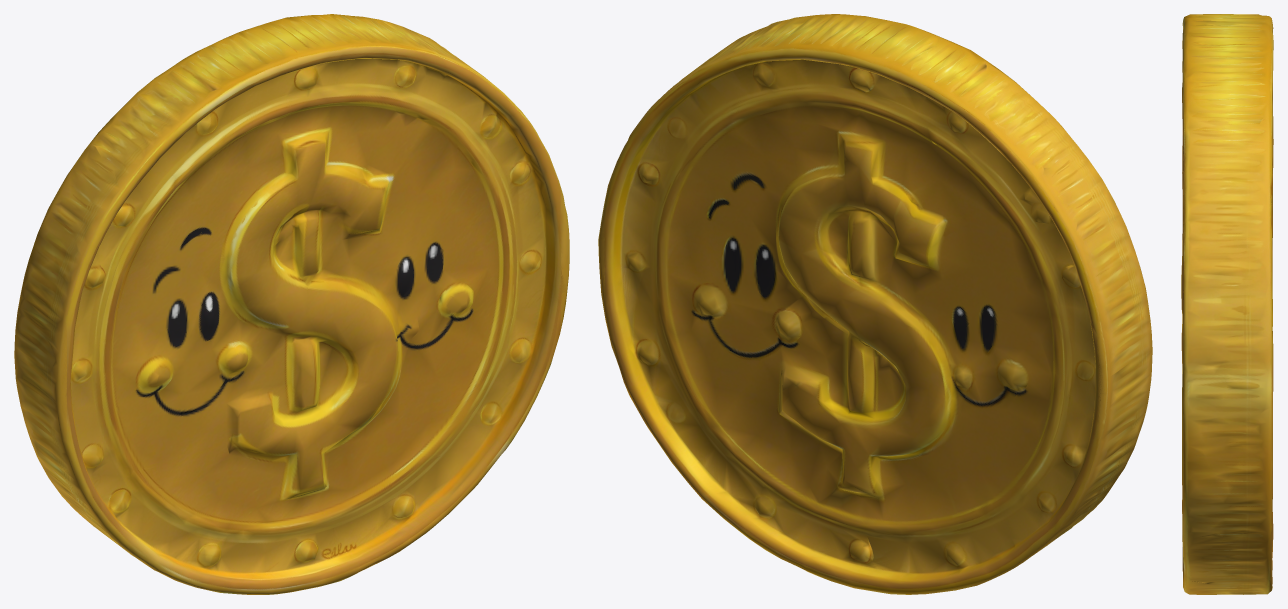
The model's file is coin.glb.
The picture shows the model from 3 angles, left to right: view 1: azimuth 30°, elevation 25°; view 2: azimuth 150°, elevation 25°; view 3: azimuth 270°, elevation 25°; orthographic projection. The views are drawn at different scales.
Bounding box in the file's own units: 65649 × 65673 × 10470.
Materials: 1 (1 with a texture image).
